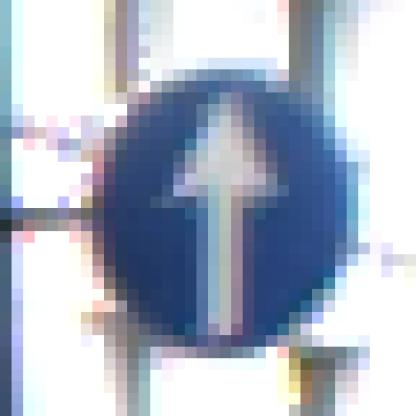AheadOnly: (70, 59, 348, 359)
